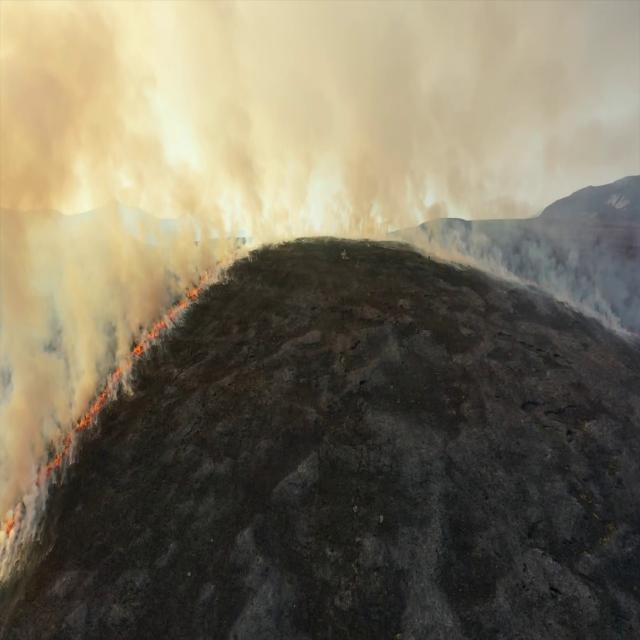Smoke: (517, 220, 640, 342), (56, 326, 133, 424), (168, 216, 248, 299)
